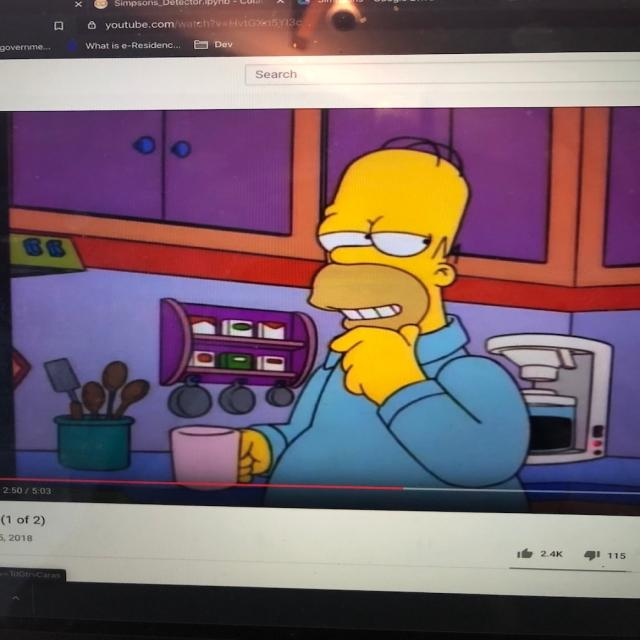Homer Simpson: (303, 132, 478, 345)
